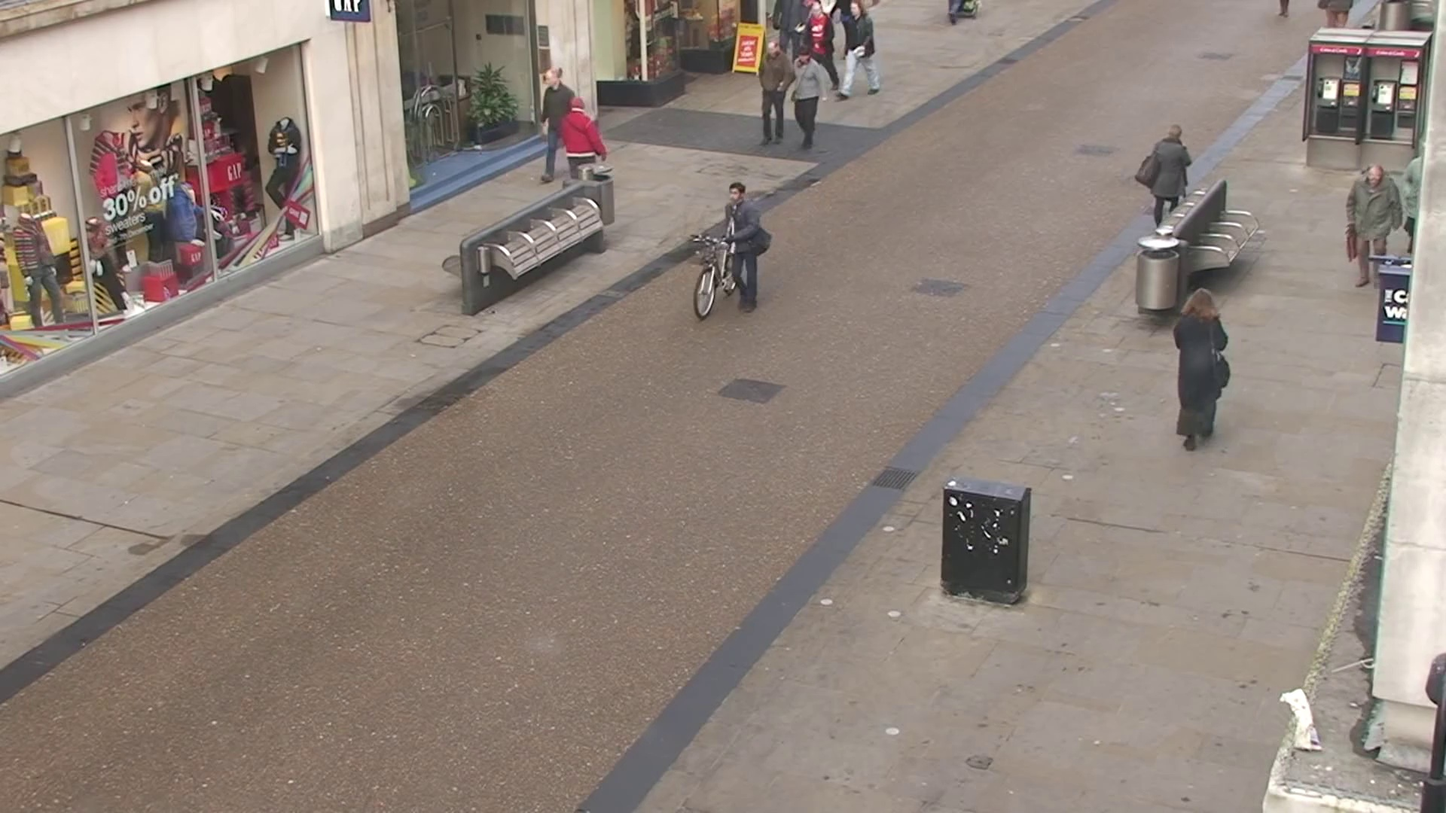person: (1171, 287, 1233, 449), (1347, 162, 1404, 291), (713, 180, 772, 301), (1134, 125, 1195, 231), (559, 82, 612, 181), (265, 117, 307, 238), (757, 30, 799, 145), (537, 64, 577, 184), (835, 2, 881, 97), (788, 51, 830, 150), (827, 2, 859, 96)
